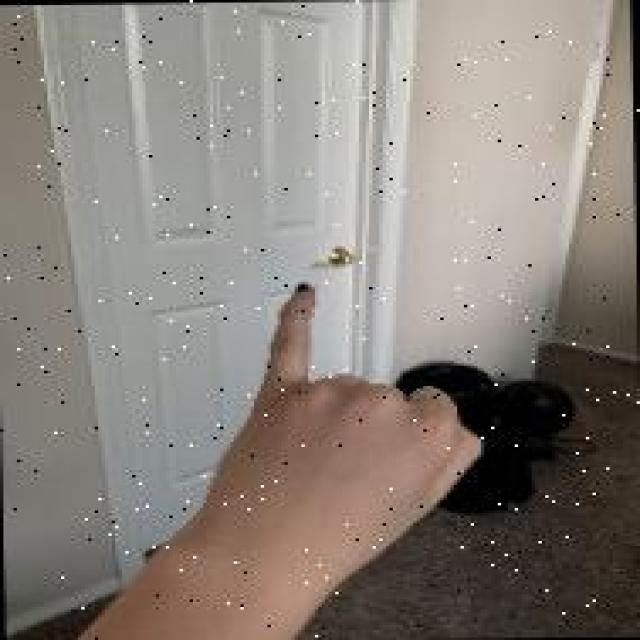I: (168, 278, 496, 575)
